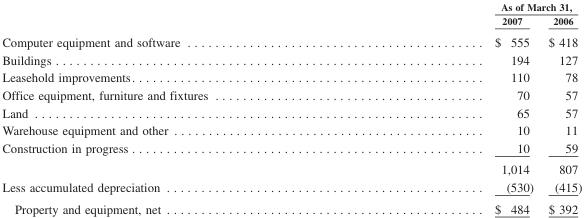table: (1, 1, 581, 215)
table column: (1, 1, 350, 215), (350, 1, 540, 215), (540, 1, 581, 215)
table column header: (1, 1, 581, 30)
table row: (1, 30, 581, 50), (1, 138, 581, 158), (1, 177, 581, 197), (1, 158, 581, 177), (1, 50, 581, 68), (1, 85, 581, 103), (1, 103, 581, 121), (1, 197, 581, 215), (1, 13, 581, 30), (1, 68, 581, 85), (1, 121, 581, 138), (1, 1, 581, 13)
table spanning cell: (350, 1, 581, 13)
